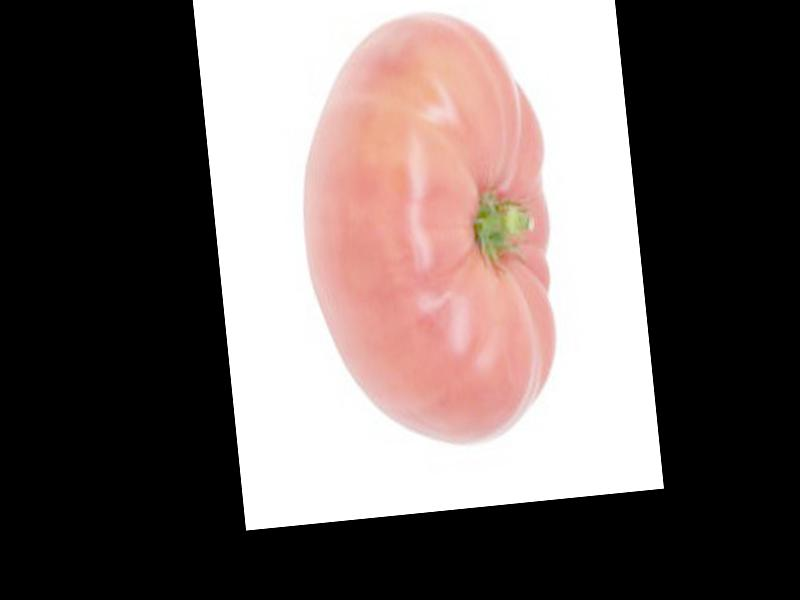Tomato: (286, 2, 566, 456)
